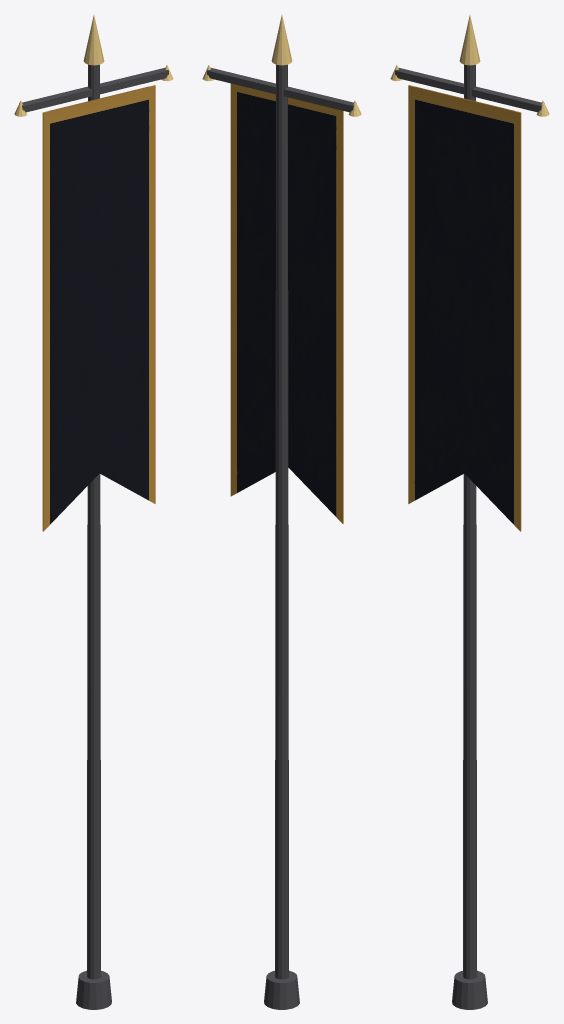
File: env_banner_pole_01.glb
3 views of the same model, side by side, from view 1: azimuth 30°, elevation 25°; view 2: azimuth 150°, elevation 25°; view 3: azimuth 330°, elevation 25° (orthographic).
Parts seen in each view (by area): view 1: env_banner_pole_01; view 2: env_banner_pole_01; view 3: env_banner_pole_01.
Boxes of the visible parts, box(x1,y1,x2,y2) form: env_banner_pole_01: box(14, 15, 173, 1009); env_banner_pole_01: box(202, 15, 361, 1009); env_banner_pole_01: box(390, 15, 549, 1009).
Bounding box in the file's own units: 1.4 × 8.4 × 0.28.
Materials: 3 (1 with a texture image).
